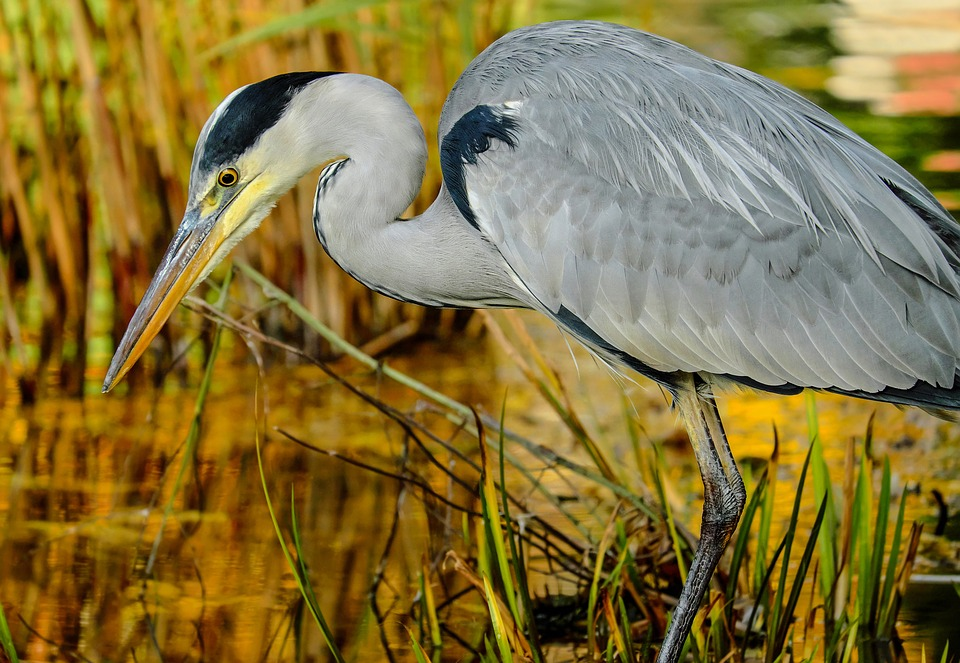heron: (107, 11, 948, 663)
